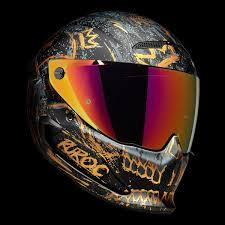helmet: (33, 12, 199, 211)
